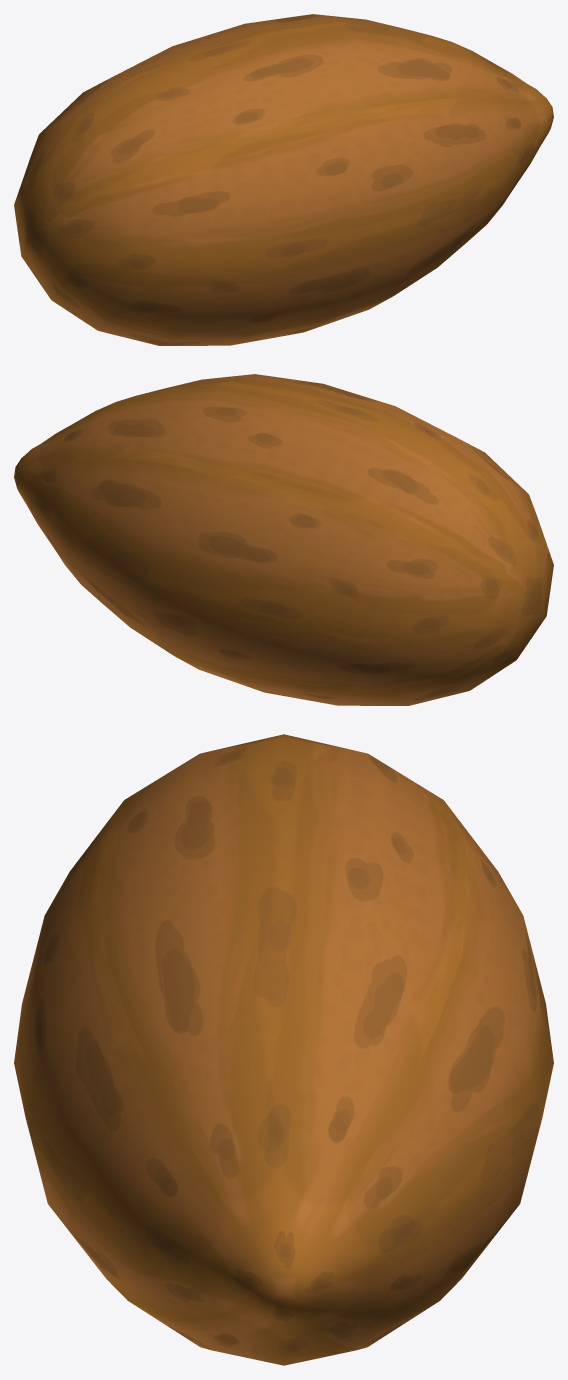
File: model_cacau_02.fbx
The picture shows the model from 3 angles, top to bottom: view 1: azimuth 30°, elevation 25°; view 2: azimuth 150°, elevation 25°; view 3: azimuth 270°, elevation 25°; orthographic projection. The views are drawn at different scales.
Visible parts, largest first — view 1: Cacau.001; view 2: Cacau.001; view 3: Cacau.001.
Boxes of the visible parts, x1=… form: Cacau.001: x1=14, y1=14, x2=553, y2=345; Cacau.001: x1=14, y1=374, x2=553, y2=705; Cacau.001: x1=14, y1=734, x2=553, y2=1365.
Size of the model in its own units: 0.7666 by 0.4081 by 0.4081.
Materials: 1 (1 with a texture image).
